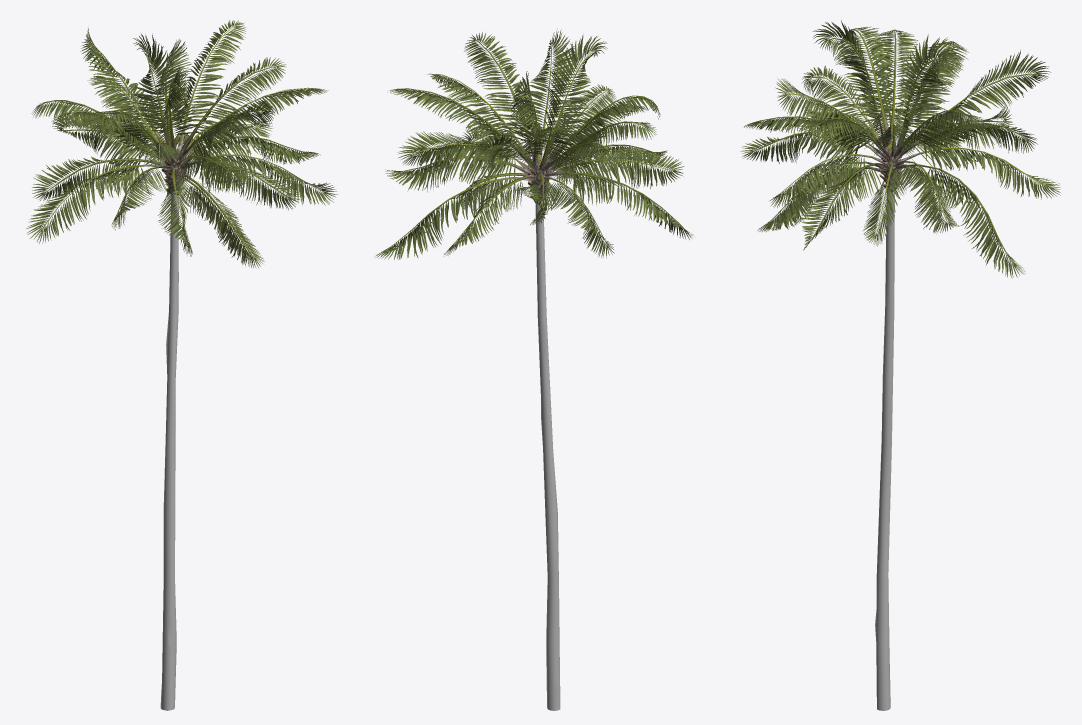
The model's file is Coconut_Palm_Model_0.obj.
The picture shows the model from 3 angles, left to right: view 1: azimuth 30°, elevation 25°; view 2: azimuth 150°, elevation 25°; view 3: azimuth 270°, elevation 25°; orthographic projection. The views are drawn at different scales.
Parts seen in each view (by area): view 1: Foliage, Bark; view 2: Foliage, Bark; view 3: Foliage, Bark.
Part boxes in pixels (<box>): Foliage: <box>26,20,337,268</box>; Bark: <box>160,190,179,710</box>; Foliage: <box>374,29,692,259</box>; Bark: <box>535,201,560,710</box>; Foliage: <box>740,20,1060,278</box>; Bark: <box>875,178,894,710</box>.
Size of the model in its own units: 11.82 by 25 by 11.02.
